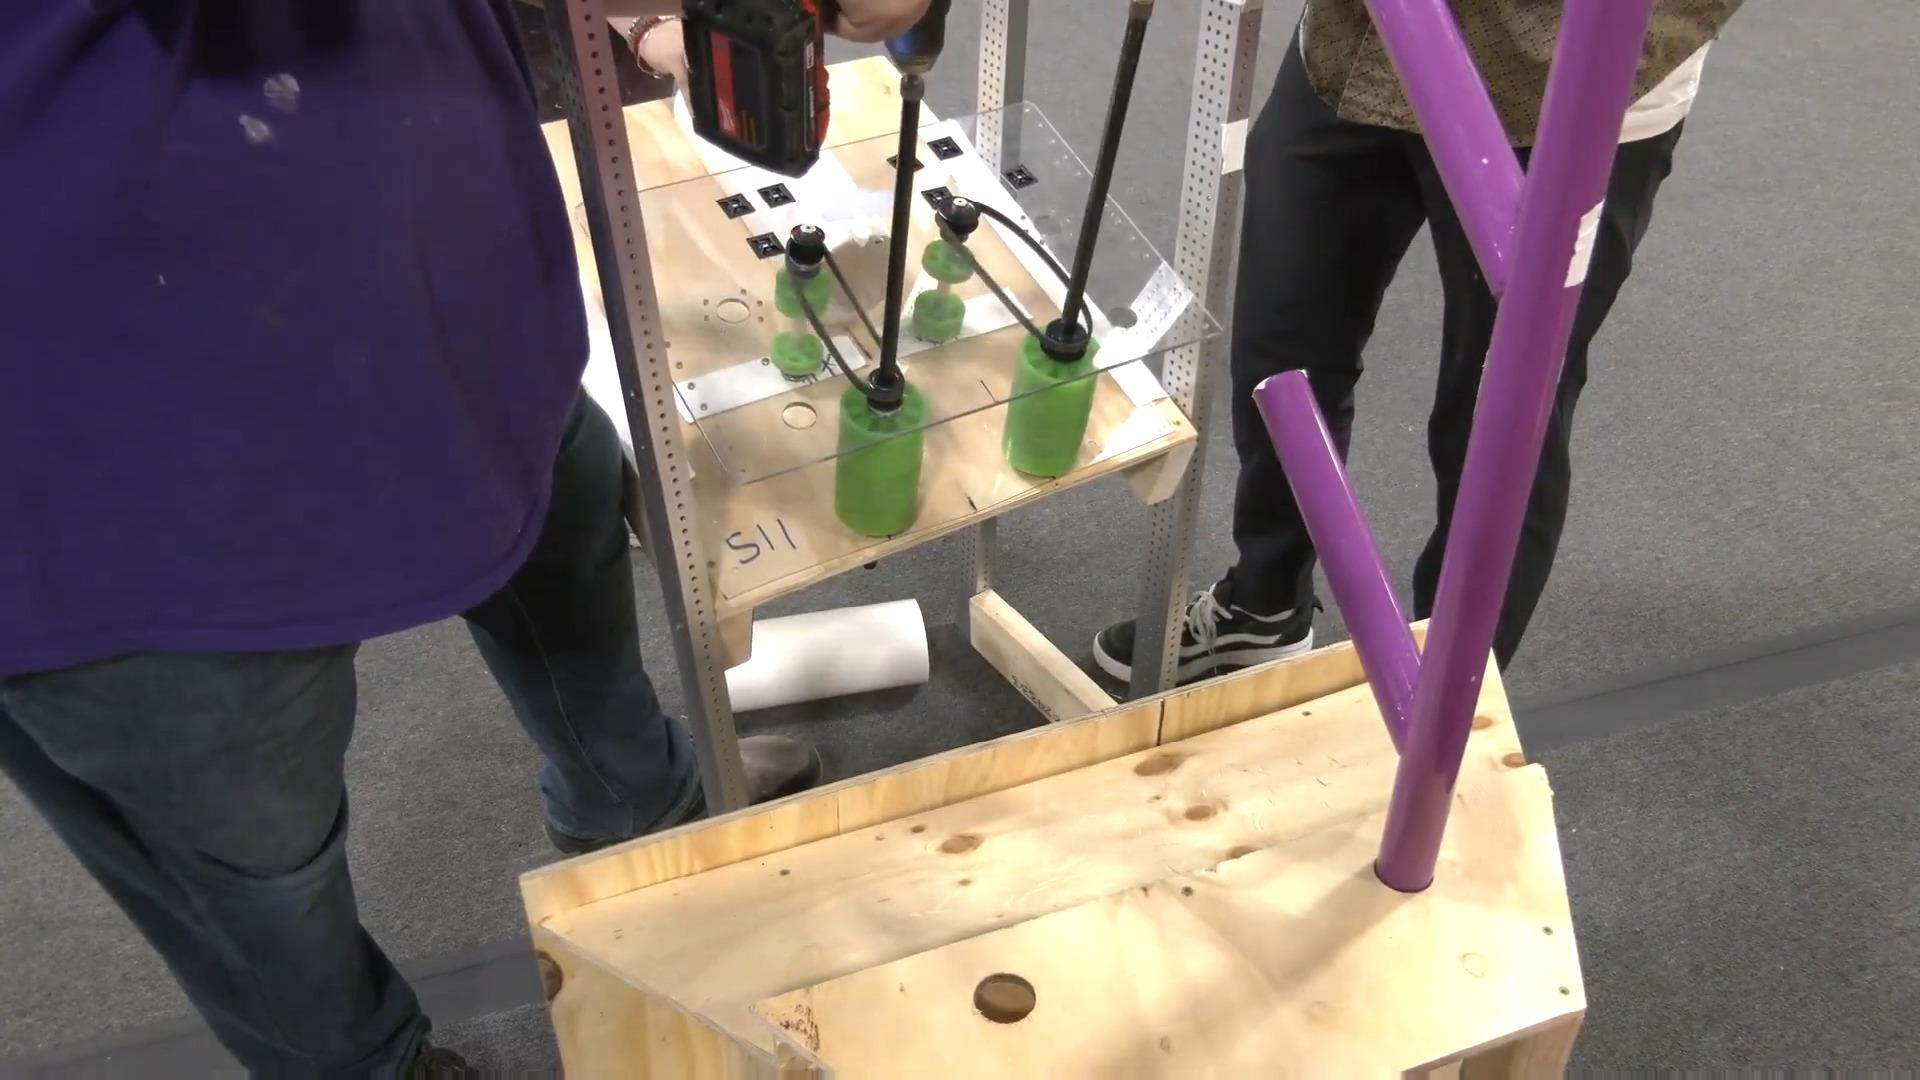coral: (720, 599, 930, 721)
